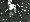person: (7, 2, 15, 16), (13, 7, 17, 16)
